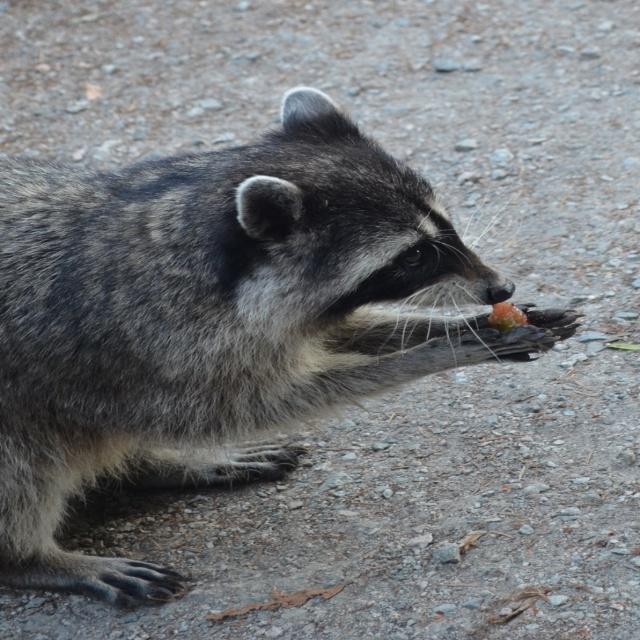Raccoon: (0, 87, 588, 609)
